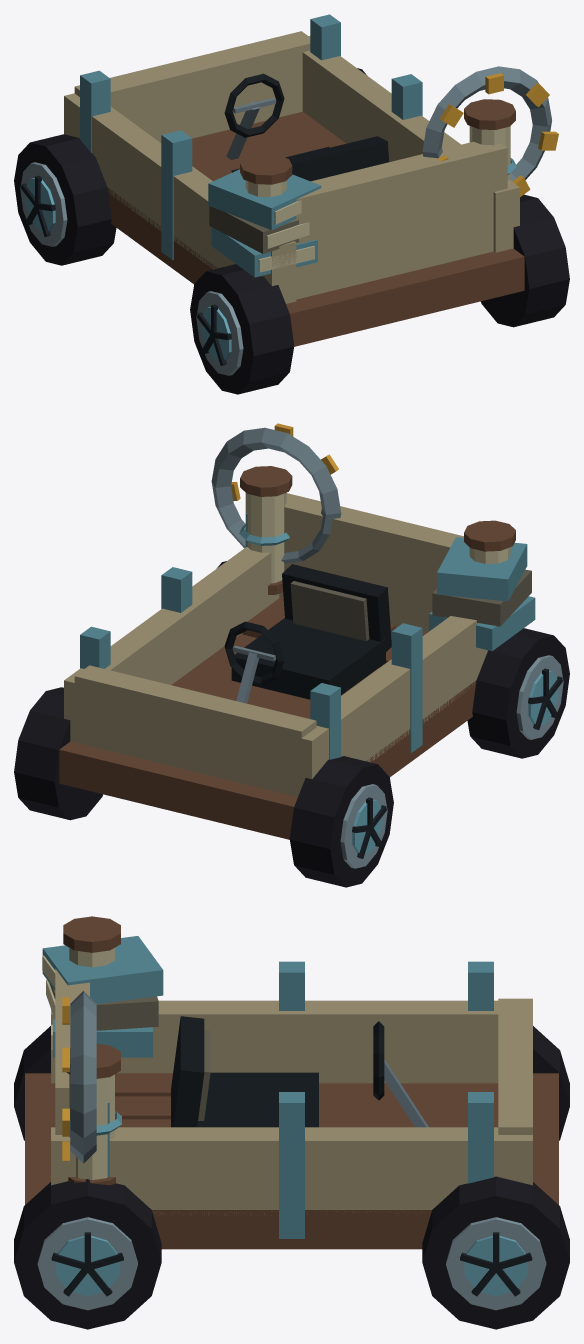
Rendered from kart.glb.
3 renders of one model, top to bottom at view 1: azimuth 30°, elevation 25°; view 2: azimuth 150°, elevation 25°; view 3: azimuth 270°, elevation 25°, orthographic. The views are drawn at different scales.
Visible parts, largest first — view 1: identity-wagon-wagon-timber-coach, wheel-rear-left, wheel-front-left, identity-wagon-motif-books, wheel-rear-right, identity-wagon-motif-gate-ring, identity-wagon-driver-cockpit, identity-wagon-motif-scrolls; view 2: identity-wagon-wagon-timber-coach, identity-wagon-driver-cockpit, wheel-front-left, wheel-rear-left, identity-wagon-motif-books, wheel-front-right, identity-wagon-motif-scrolls, identity-wagon-motif-gate-ring; view 3: identity-wagon-wagon-timber-coach, wheel-front-right, wheel-rear-right, identity-wagon-driver-cockpit, identity-wagon-motif-books, identity-wagon-motif-scrolls, identity-wagon-motif-gate-ring, wheel-front-left, wheel-rear-left.
Part boxes in pixels (<box>): identity-wagon-wagon-timber-coach: <box>64,14,524,346</box>; wheel-rear-left: <box>190,264,294,394</box>; wheel-front-left: <box>14,134,116,265</box>; identity-wagon-motif-books: <box>208,169,321,277</box>; wheel-rear-right: <box>480,194,569,327</box>; identity-wagon-motif-gate-ring: <box>422,66,558,197</box>; identity-wagon-driver-cockpit: <box>224,73,388,181</box>; identity-wagon-motif-scrolls: <box>240,99,516,276</box>; identity-wagon-wagon-timber-coach: <box>59,493,487,839</box>; identity-wagon-driver-cockpit: <box>224,564,391,703</box>; wheel-front-left: <box>289,756,393,887</box>; wheel-rear-left: <box>467,628,569,758</box>; identity-wagon-motif-books: <box>429,537,535,651</box>; wheel-front-right: <box>14,687,102,820</box>; identity-wagon-motif-scrolls: <box>239,466,515,594</box>; identity-wagon-motif-gate-ring: <box>211,423,341,563</box>; identity-wagon-wagon-timber-coach: <box>25,961,558,1249</box>; wheel-front-right: <box>422,1176,569,1329</box>; wheel-rear-right: <box>14,1179,161,1329</box>; identity-wagon-driver-cockpit: <box>171,1016,428,1127</box>; identity-wagon-motif-books: <box>42,936,163,1057</box>; identity-wagon-motif-scrolls: <box>63,916,121,1185</box>; identity-wagon-motif-gate-ring: <box>62,991,96,1163</box>; wheel-front-left: <box>533,1026,569,1140</box>; wheel-rear-left: <box>14,1026,50,1140</box>.
Bounding box in the file's own units: 2.08 × 1.52 × 2.56.
